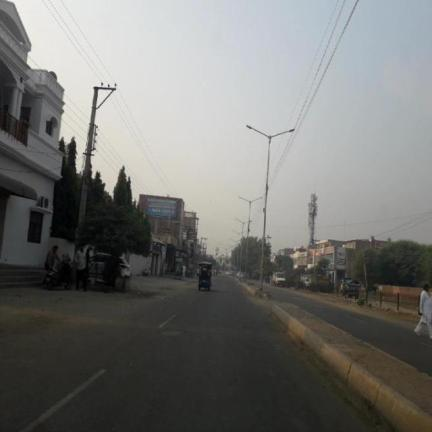Road: (0, 277, 373, 431)
